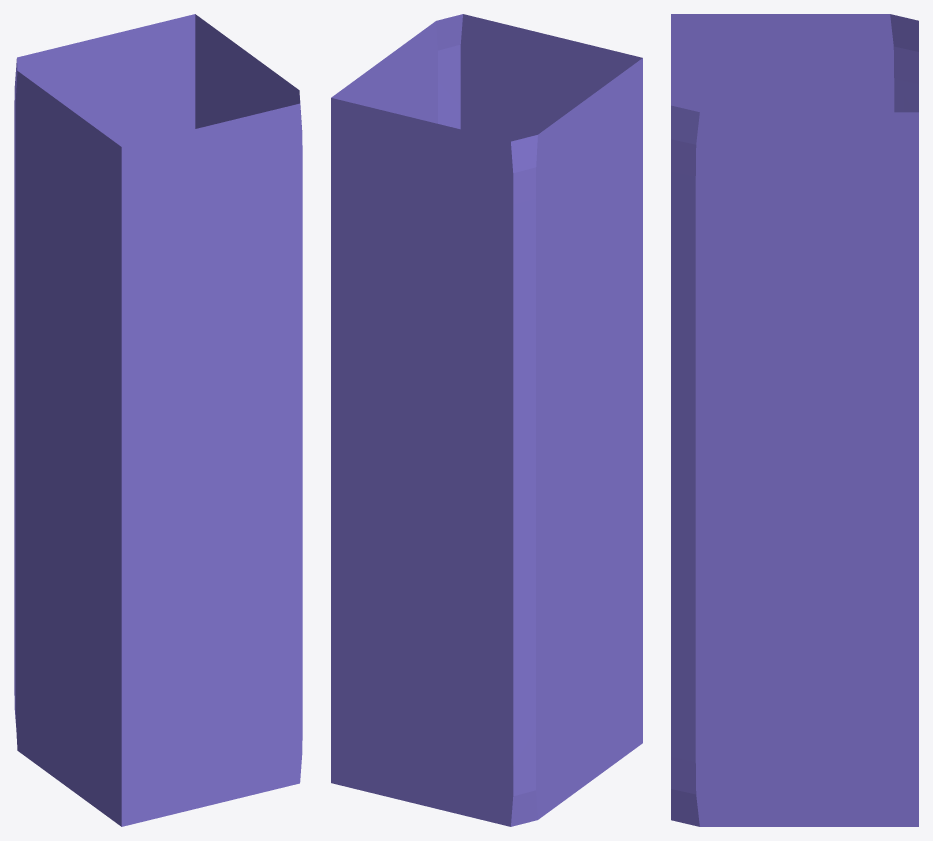
3 views of the same model, side by side, from view 1: azimuth 30°, elevation 25°; view 2: azimuth 150°, elevation 25°; view 3: azimuth 270°, elevation 25° (orthographic). The views are drawn at different scales.
Visible parts, largest first — view 1: m_14_4.005, m_3_4.005, m_10_1.005, m_12_1.005, m_12_4.005, m_15_1.005, m_15_4.005, m_16_2.005, m_17_0.005, m_17_4.005, m_19_14.005, m_19_3.005 (+279 smaller); view 2: m_0_14.005, m_10_14.005, m_13_17.005, m_16_17.005, m_3_14.005, m_7_14.005, m_0_17.005, m_10_17.005, m_15_14.005, m_16_14.005, m_19_17.005, m_20_14.005 (+298 smaller); view 3: m_16_7.005, m_18_7.005, m_20_7.005, m_11_7.005, m_13_7.005, m_15_7.005, m_17_7.005, m_19_7.005, m_3_7.005, m_5_7.005, m_7_7.005, m_9_7.005 (+163 smaller).
Part boxes in pixels (<box>): m_14_4.005: <box>243,326,273,364</box>; m_3_4.005: <box>243,666,273,704</box>; m_10_1.005: <box>152,472,182,510</box>; m_12_1.005: <box>152,410,182,448</box>; m_12_4.005: <box>243,388,273,426</box>; m_15_1.005: <box>152,317,182,355</box>; m_15_4.005: <box>243,295,273,333</box>; m_16_2.005: <box>182,279,212,317</box>; m_17_0.005: <box>121,263,151,301</box>; m_17_4.005: <box>243,233,273,271</box>; m_19_14.005: <box>134,83,164,121</box>; m_19_3.005: <box>213,179,243,217</box>; m_0_14.005: <box>361,759,392,797</box>; m_10_14.005: <box>361,448,392,486</box>; m_13_17.005: <box>453,377,484,415</box>; m_16_17.005: <box>453,283,484,321</box>; m_3_14.005: <box>361,666,392,704</box>; m_7_14.005: <box>361,541,392,579</box>; m_0_17.005: <box>453,782,484,820</box>; m_10_17.005: <box>453,470,484,508</box>; m_15_14.005: <box>361,292,392,330</box>; m_16_14.005: <box>361,261,392,299</box>; m_19_17.005: <box>453,190,484,228</box>; m_20_14.005: <box>361,136,392,174</box>; m_16_7.005: <box>695,274,734,307</box>; m_18_7.005: <box>695,209,734,242</box>; m_20_7.005: <box>695,144,734,177</box>; m_11_7.005: <box>695,437,734,469</box>; m_13_7.005: <box>695,372,734,404</box>; m_15_7.005: <box>695,307,734,339</box>; m_17_7.005: <box>695,242,734,274</box>; m_19_7.005: <box>695,177,734,209</box>; m_3_7.005: <box>695,697,734,729</box>; m_5_7.005: <box>695,632,734,664</box>; m_7_7.005: <box>695,567,734,599</box>; m_9_7.005: <box>695,502,734,534</box>.
Size of the model in its own units: 37.9 by 129 by 40.42.
